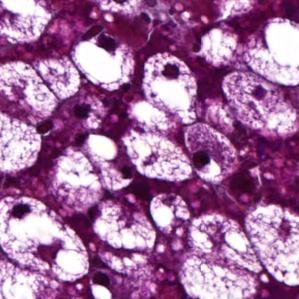ballooning: (0, 192, 91, 284), (242, 201, 299, 290), (141, 50, 200, 126), (148, 190, 193, 238)
